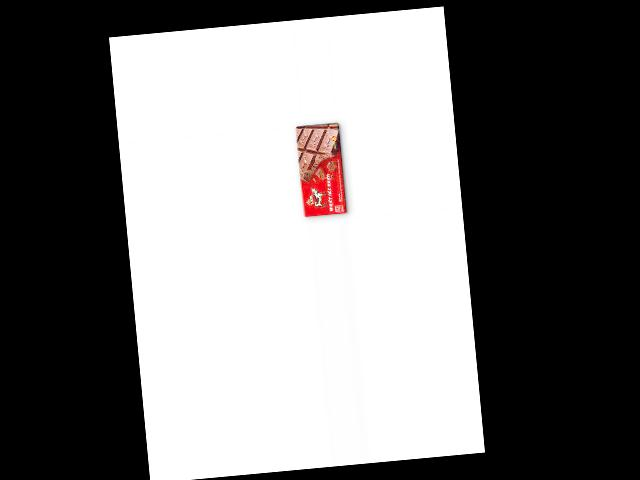chocolate: (293, 120, 350, 220)
